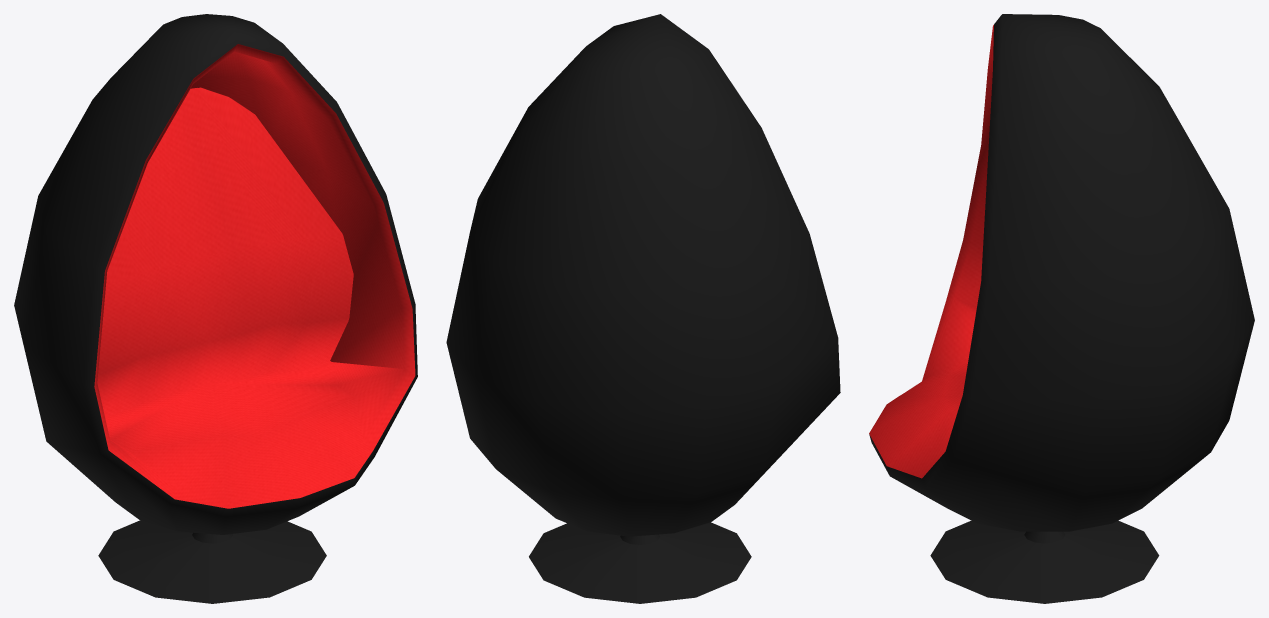
Rendered from Eggchair_B_07.FBX.
The picture shows the model from 3 angles, left to right: view 1: azimuth 30°, elevation 25°; view 2: azimuth 150°, elevation 25°; view 3: azimuth 270°, elevation 25°; orthographic projection. The views are drawn at different scales.
Visible parts, largest first — view 1: Egg_chair; view 2: Egg_chair; view 3: Egg_chair.
Part boxes in pixels (x1,y1,x2,y2): Egg_chair: [14, 14, 417, 603]; Egg_chair: [446, 14, 840, 603]; Egg_chair: [869, 14, 1254, 603].
Bounding box in the file's own units: 168 × 261 × 169.
